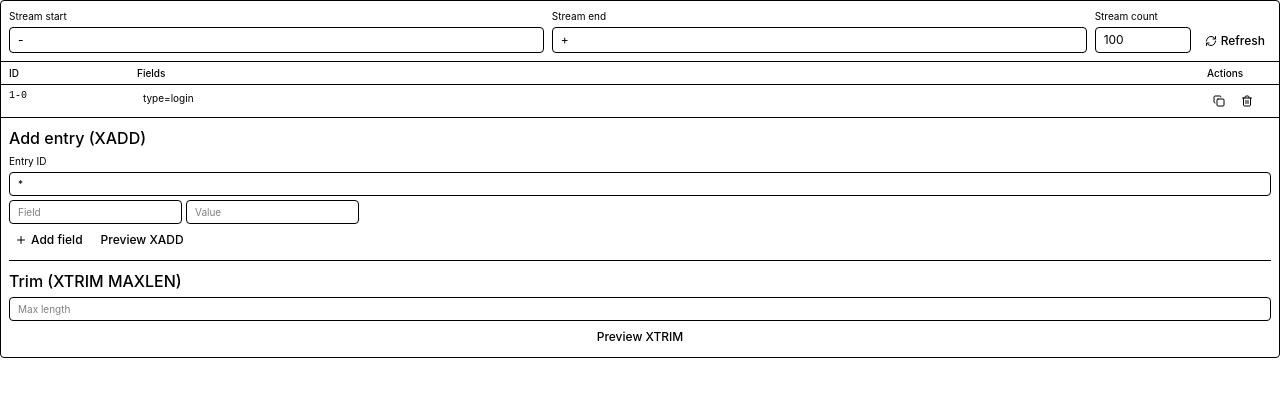
Test: KvStreamReaderPanel write surface › rejects a non-integer trim length before preview
In the field labelled "Max length": (640, 309) [9,297,1271,321], type "abc"
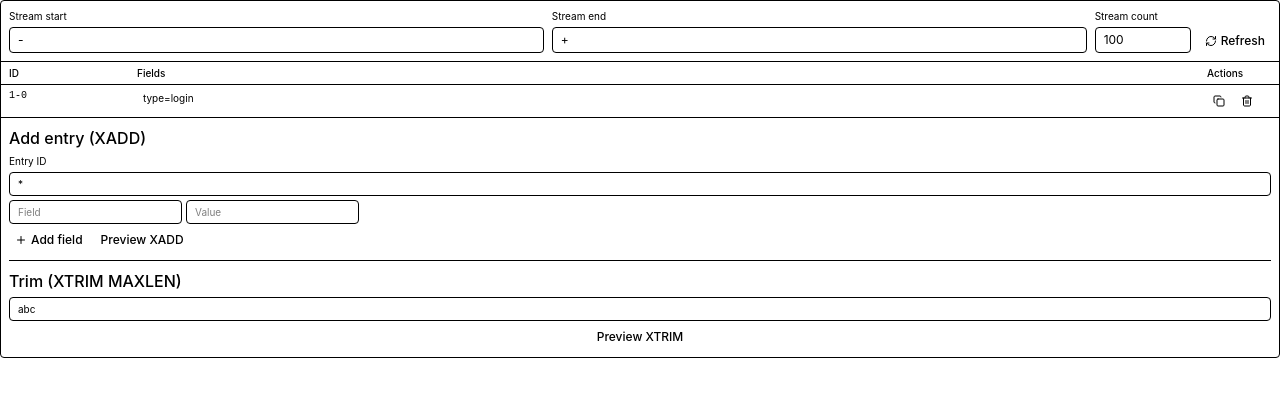
Click the button "Preview XTRIM": click(640, 337) [9,325,1271,349]
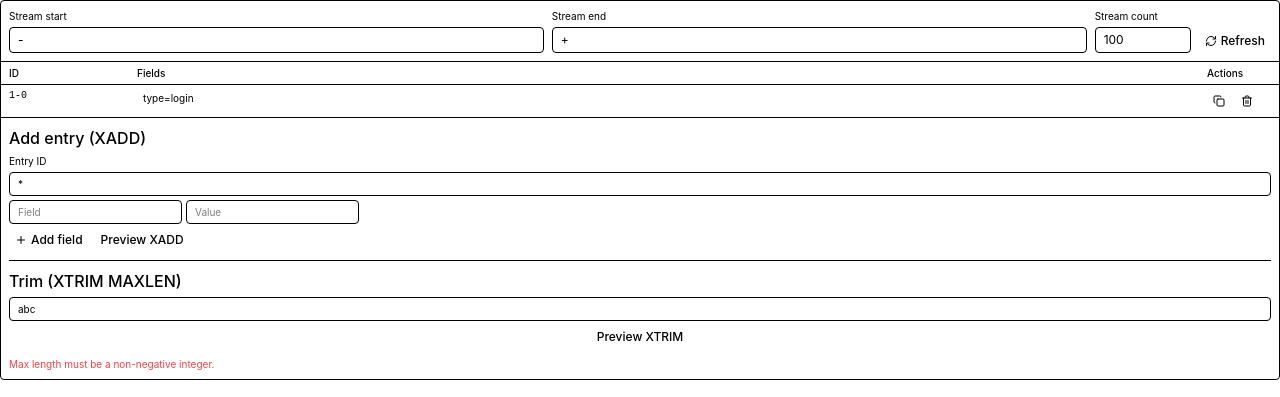
Check: the message shows "non-negative integer", box [9,358,214,370]
